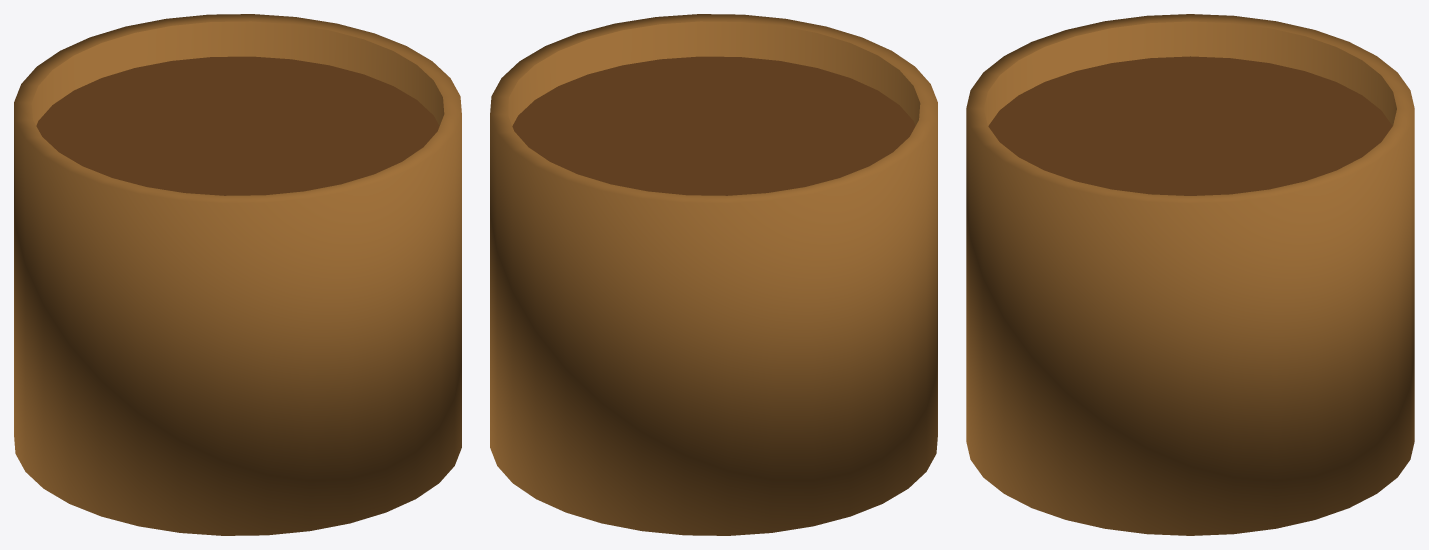
The model's file is pot_plein.fbx.
3 renders of one model, left to right at view 1: azimuth 30°, elevation 25°; view 2: azimuth 150°, elevation 25°; view 3: azimuth 270°, elevation 25°, orthographic.
Visible parts, largest first — view 1: Cylinder, Cylinder.001; view 2: Cylinder, Cylinder.001; view 3: Cylinder, Cylinder.001.
Part boxes in pixels (<box>): Cylinder: <box>14,14,461,535</box>; Cylinder.001: <box>36,56,439,195</box>; Cylinder: <box>490,14,937,535</box>; Cylinder.001: <box>512,56,915,195</box>; Cylinder: <box>966,14,1414,535</box>; Cylinder.001: <box>988,56,1392,195</box>.
Bounding box in the file's own units: 245 × 200 × 245.
